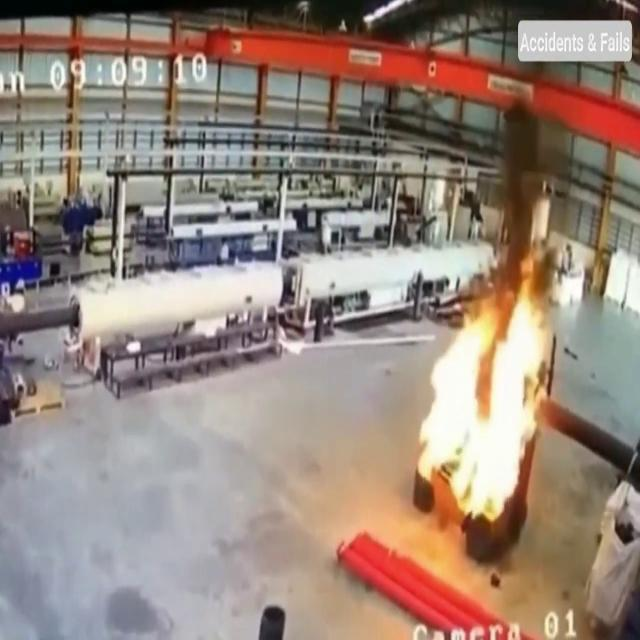Fire: (412, 216, 560, 524)
